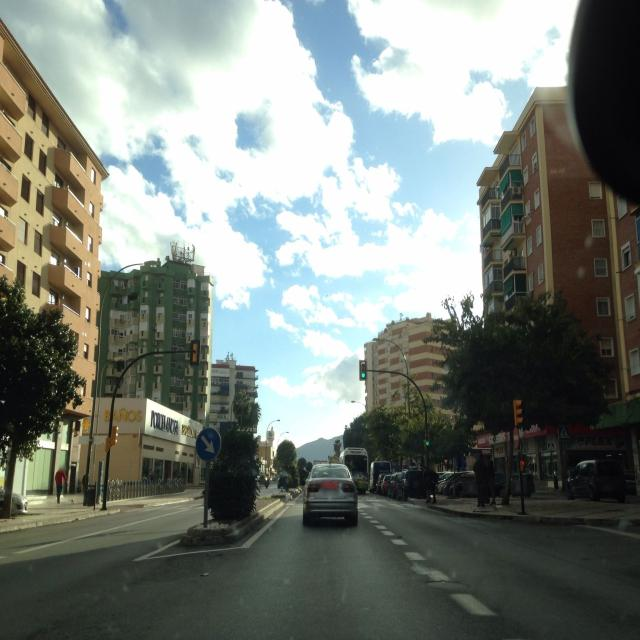bike: (265, 479, 269, 489)
car: (302, 462, 359, 526), (564, 456, 628, 504), (396, 468, 432, 501), (494, 471, 536, 498), (0, 486, 29, 518), (445, 470, 477, 498), (385, 472, 401, 498), (376, 472, 393, 496), (277, 474, 291, 490)
